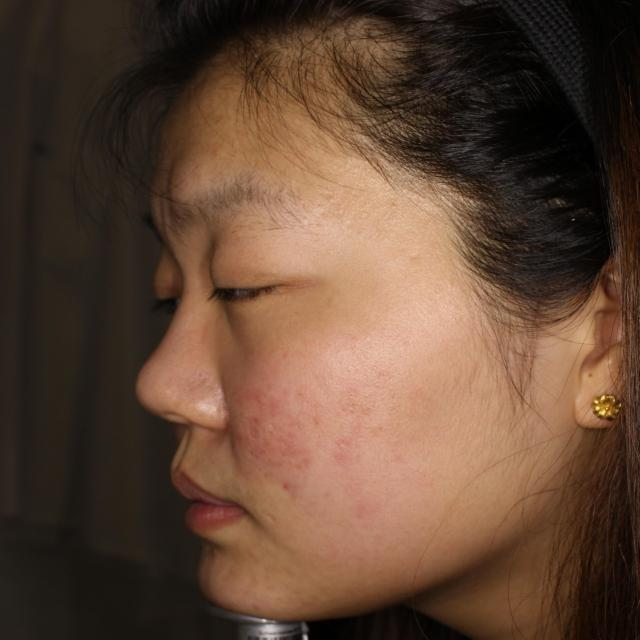pustule: (246, 413, 273, 445), (245, 445, 268, 478), (276, 469, 297, 505), (284, 444, 309, 466)
